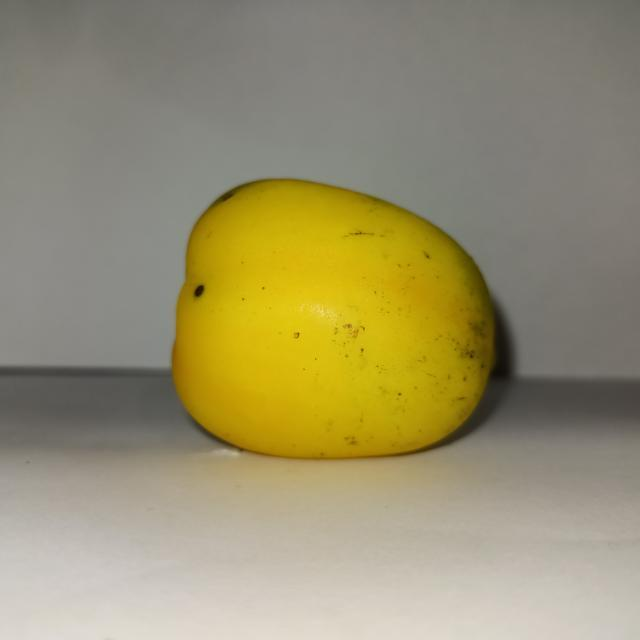Red: (170, 176, 498, 460)
